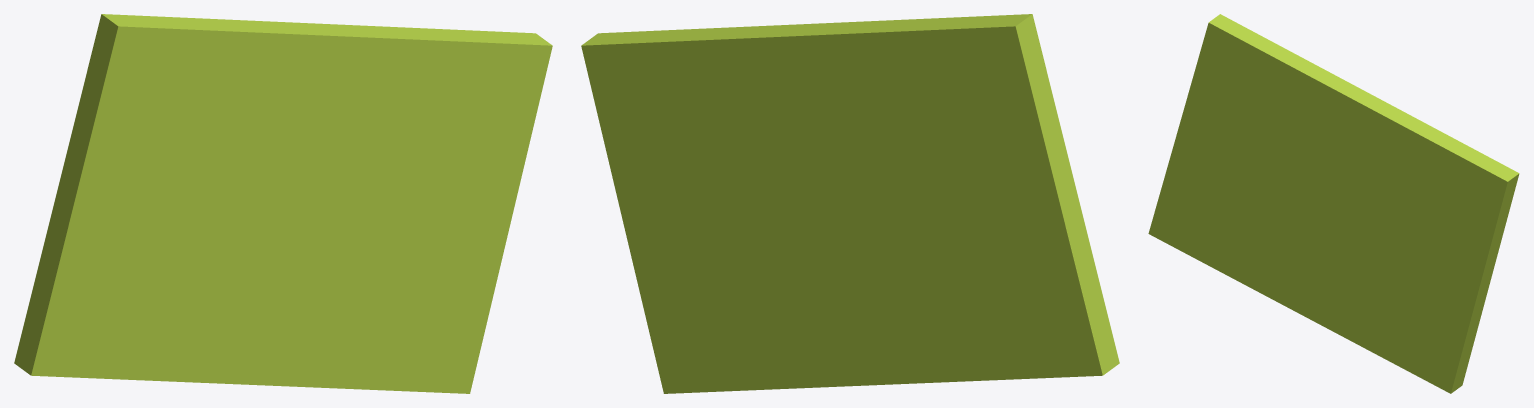
The picture shows the model from 3 angles, left to right: view 1: azimuth 30°, elevation 25°; view 2: azimuth 150°, elevation 25°; view 3: azimuth 330°, elevation 25°; orthographic projection. The views are drawn at different scales.
Visible parts, largest first — view 1: osm-way27917482-F0; view 2: osm-way27917482-F0; view 3: osm-way27917482-F0.
Boxes of the visible parts, left/top/right/bottom form: osm-way27917482-F0: left=14, top=14, right=552, bottom=393; osm-way27917482-F0: left=581, top=14, right=1119, bottom=393; osm-way27917482-F0: left=1148, top=14, right=1519, bottom=393.
Bounding box in the file's own units: 2.66 × 2.21 × 0.15.
